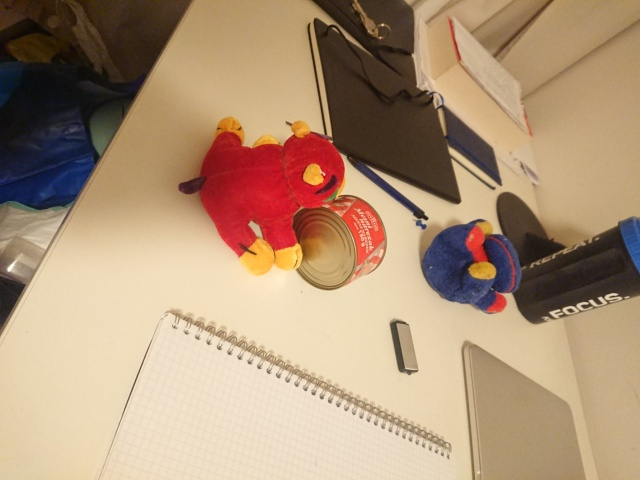Podravka Luncheon Meat 150g: (284, 191, 390, 294)
